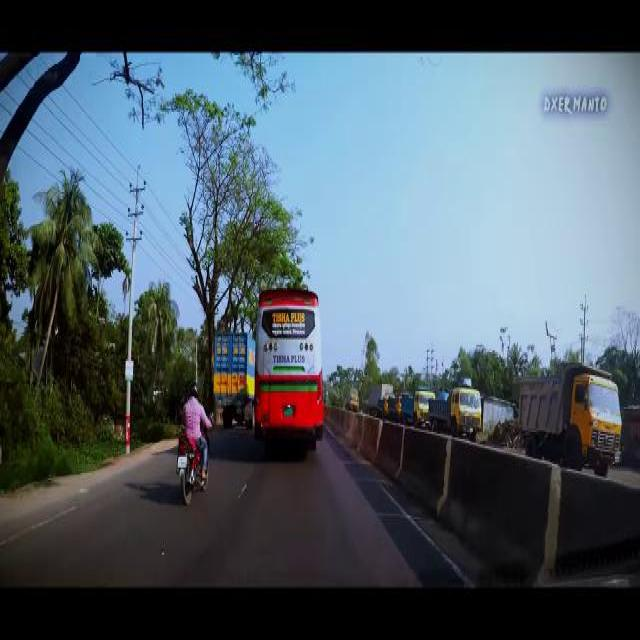bus: (252, 285, 322, 455)
motorbike: (173, 376, 214, 506)
truck: (514, 358, 622, 484), (210, 326, 254, 431), (427, 384, 483, 444), (400, 384, 432, 427), (342, 386, 360, 410), (388, 391, 400, 420), (377, 393, 389, 414)
